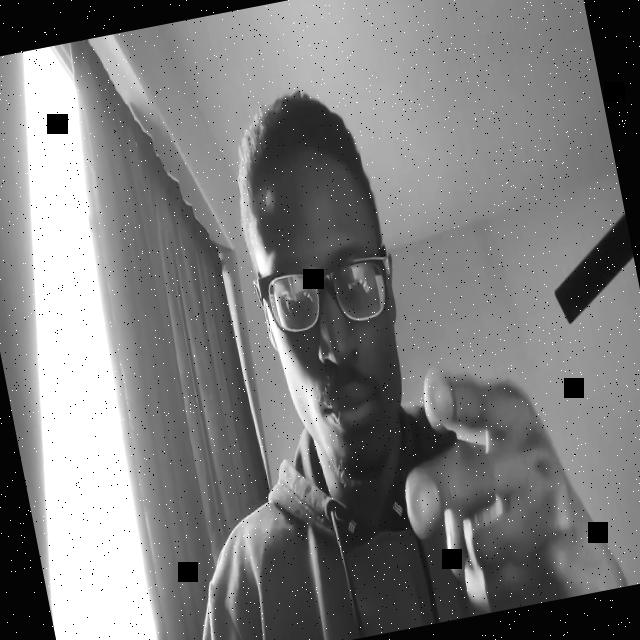Scissors: (380, 340, 624, 624)
